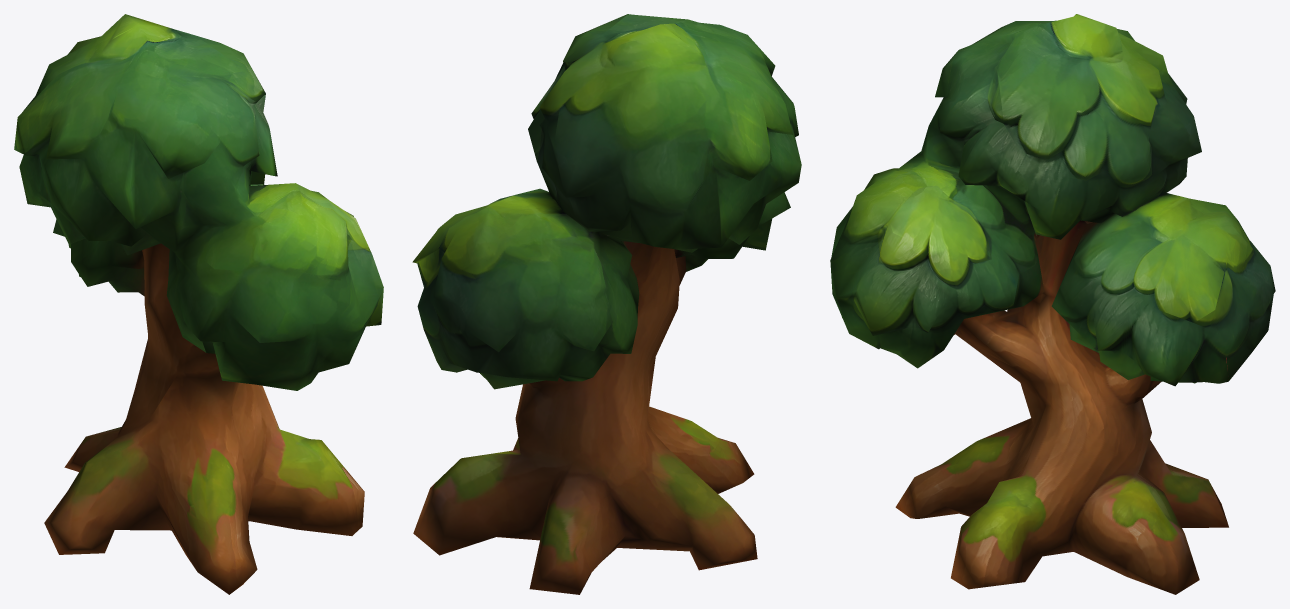
Rendered from W_Tree_B_raw.glb.
The picture shows the model from 3 angles, left to right: view 1: azimuth 30°, elevation 25°; view 2: azimuth 150°, elevation 25°; view 3: azimuth 270°, elevation 25°; orthographic projection. The views are drawn at different scales.
Visible parts, largest first — view 1: tripo_node_caa37cfd-0be6-410b-acc0-a2bb65396f4a; view 2: tripo_node_caa37cfd-0be6-410b-acc0-a2bb65396f4a; view 3: tripo_node_caa37cfd-0be6-410b-acc0-a2bb65396f4a.
Boxes of the visible parts, left/top/right/bottom form: tripo_node_caa37cfd-0be6-410b-acc0-a2bb65396f4a: left=14, top=14, right=383, bottom=594; tripo_node_caa37cfd-0be6-410b-acc0-a2bb65396f4a: left=412, top=14, right=801, bottom=594; tripo_node_caa37cfd-0be6-410b-acc0-a2bb65396f4a: left=830, top=14, right=1275, bottom=594.
Size of the model in its own units: 0.6181 by 1 by 0.8199.
Materials: 1 (1 with a texture image).
